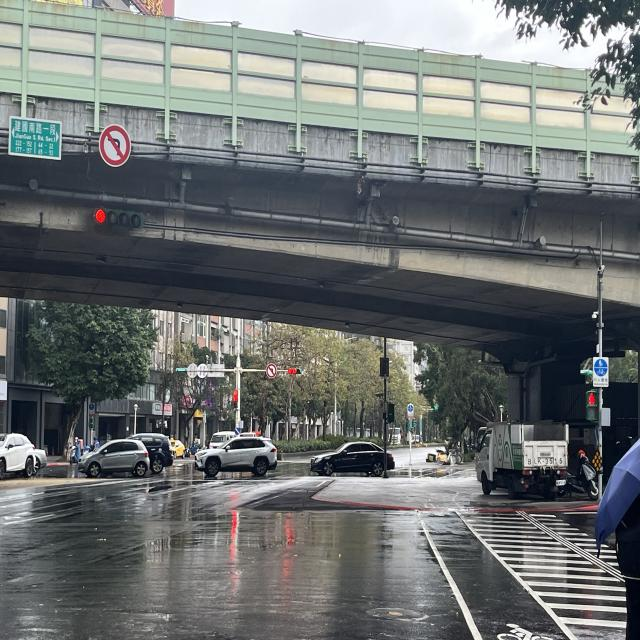red light: (96, 205, 144, 232), (585, 390, 600, 421)
